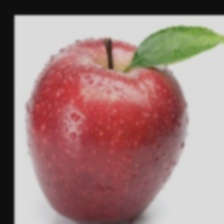apple: (43, 29, 223, 175)
